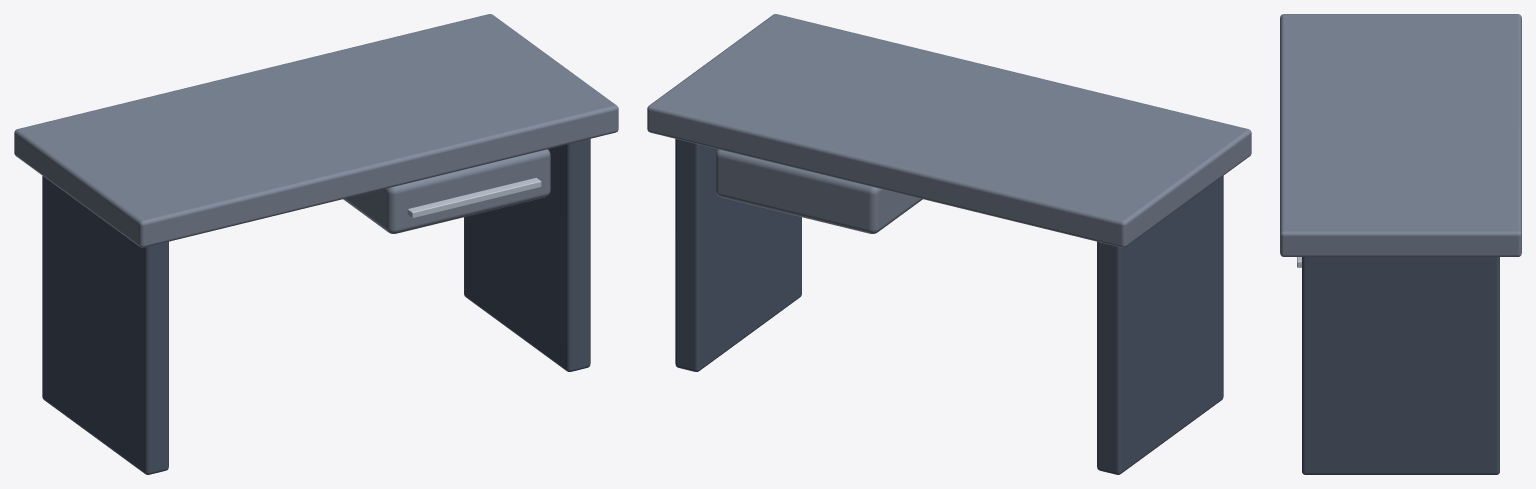
File: desk.glb
3 renders of one model, left to right at view 1: azimuth 30°, elevation 25°; view 2: azimuth 150°, elevation 25°; view 3: azimuth 270°, elevation 25°, orthographic. The views are drawn at different scales.
Visible parts, largest first — view 1: desk; view 2: desk; view 3: desk.
Boxes of the visible parts, x1,y1,x2,y2 form: desk: (14,14,618,474); desk: (647,14,1251,474); desk: (1280,14,1521,474).
Bounding box in the file's own units: 1.4 × 0.7448 × 0.65.
